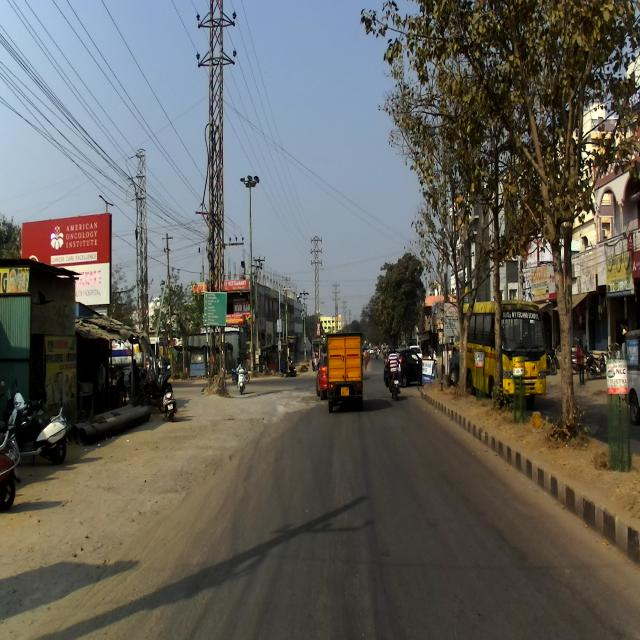car ahead at: (324, 327, 367, 419)
electric pole ahead at: (193, 0, 240, 409)
motorcycle ahead at: (4, 392, 71, 470), (152, 358, 180, 427), (383, 348, 405, 401)
